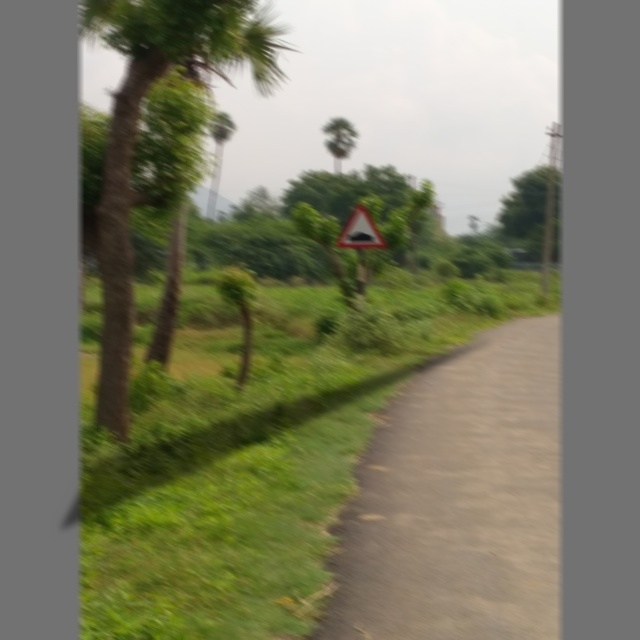Hump_or_Rough_Road: (331, 199, 388, 253)
